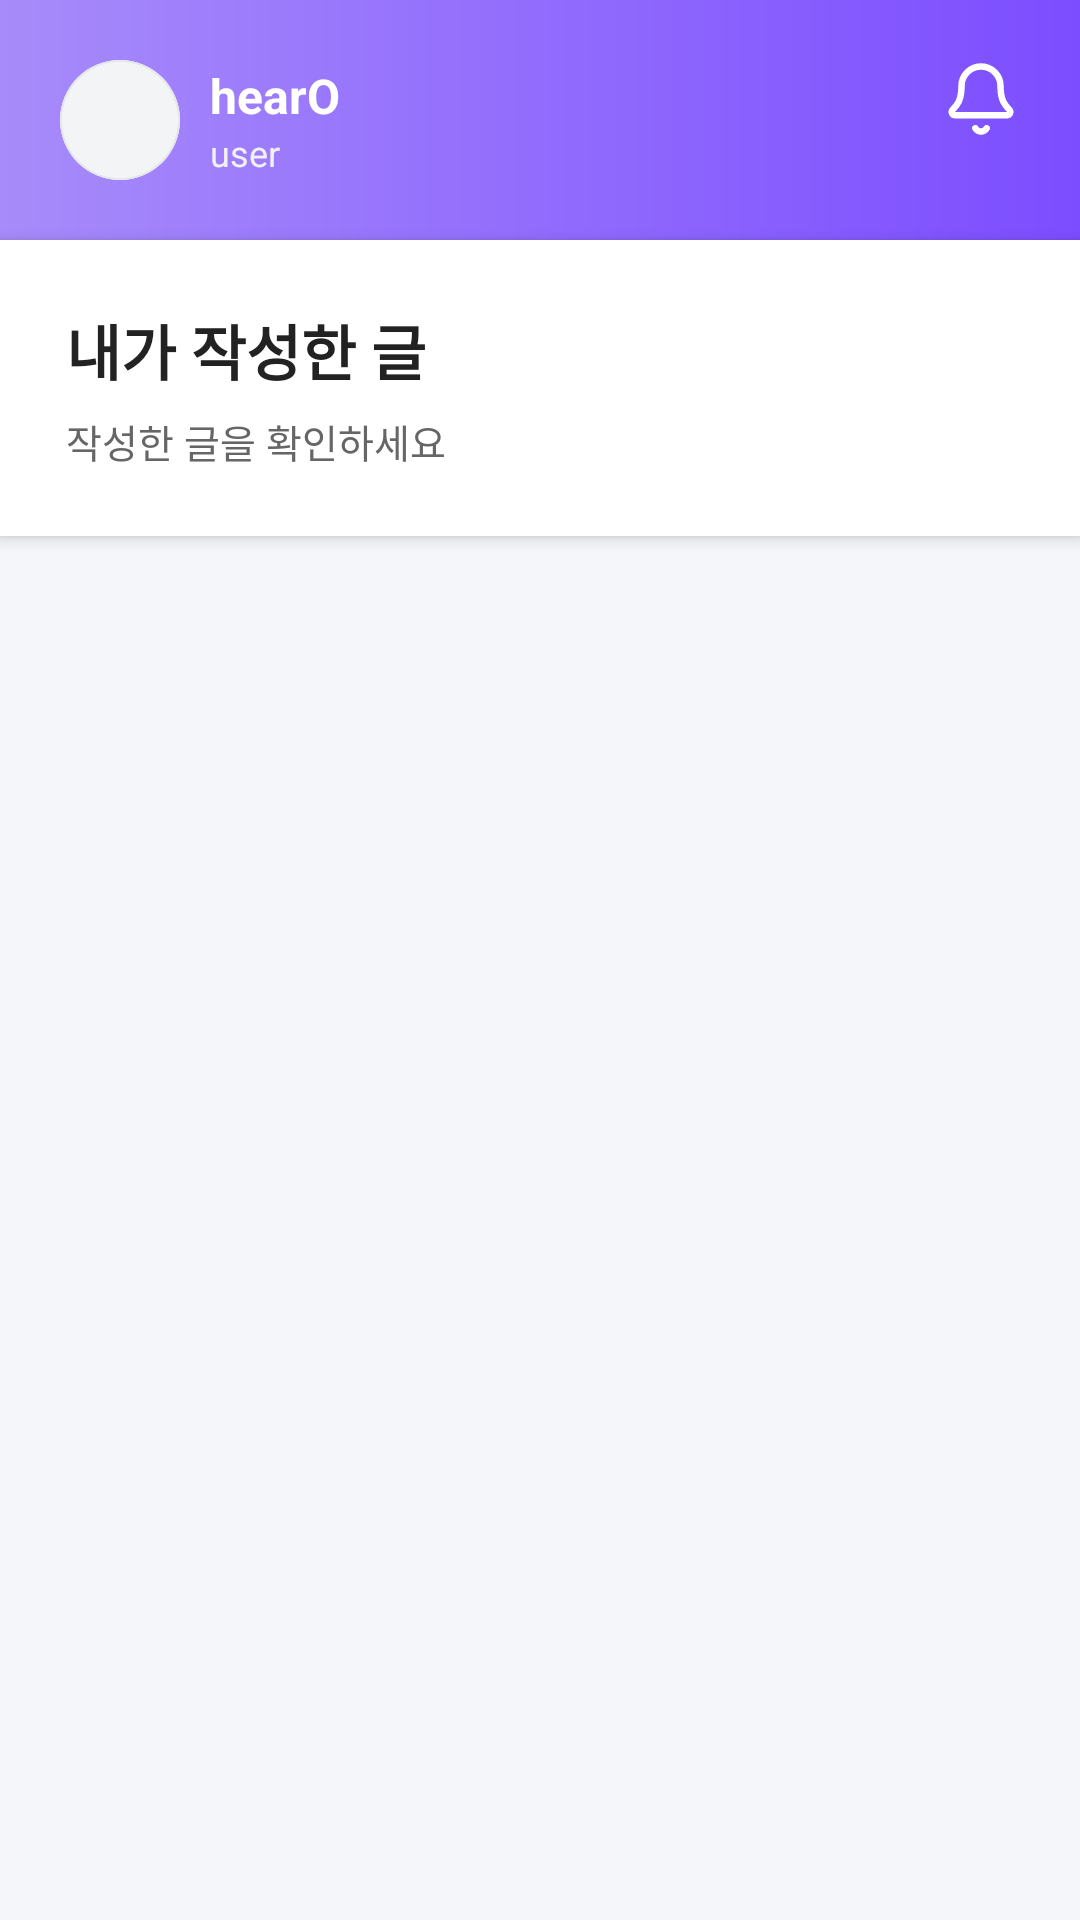

Screen size 1080*1920. Icon name, then its center in pixels as [x,y]:
alarm: [981,99]
